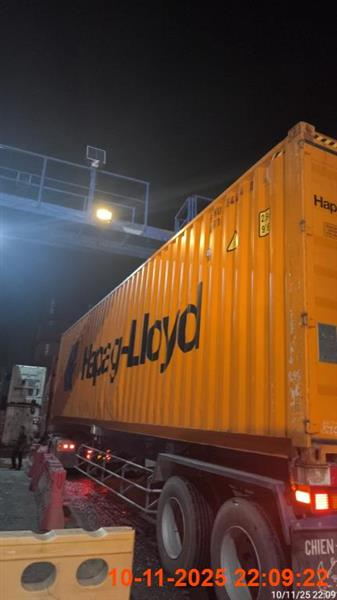hole: (37, 121, 335, 599), (9, 425, 29, 470)
